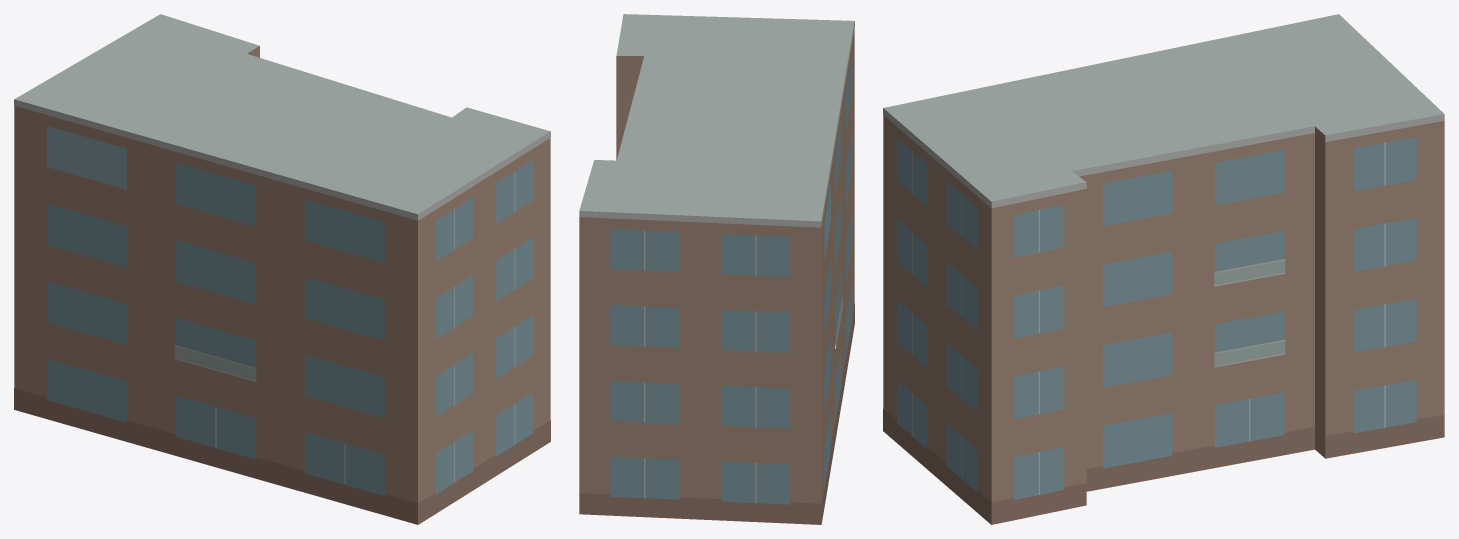
Rendered from survey-upis-32594659.glb.
The picture shows the model from 3 angles, left to right: view 1: azimuth 30°, elevation 25°; view 2: azimuth 150°, elevation 25°; view 3: azimuth 270°, elevation 25°; orthographic projection. The views are drawn at different scales.
Parts seen in each view (by area): view 1: survey-upis-32594659.tmp; view 2: survey-upis-32594659.tmp; view 3: survey-upis-32594659.tmp.
Part boxes in pixels (left/top/right/bottom): survey-upis-32594659.tmp: left=14, top=14, right=550, bottom=524; survey-upis-32594659.tmp: left=579, top=14, right=854, bottom=524; survey-upis-32594659.tmp: left=883, top=14, right=1444, bottom=524.
Bounding box in the file's own units: 14.81 × 11.88 × 18.72.
